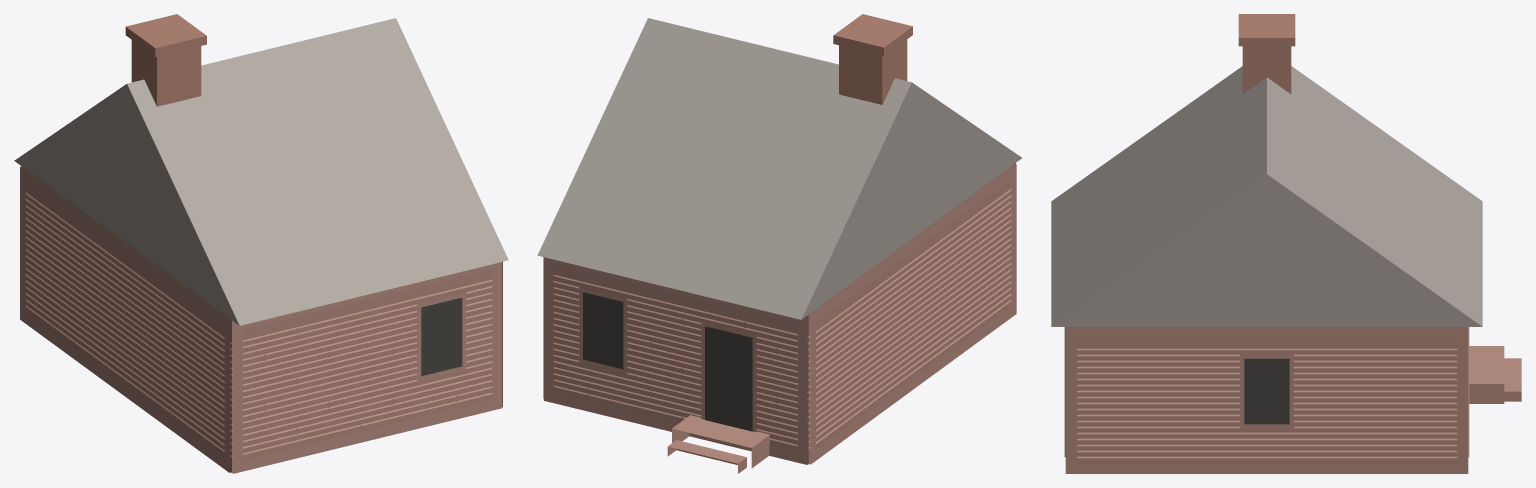
Rendered from recon_1835_south_d3_027__inferred_1835.glb.
The picture shows the model from 3 angles, left to right: view 1: azimuth 30°, elevation 25°; view 2: azimuth 150°, elevation 25°; view 3: azimuth 270°, elevation 25°; orthographic projection. The views are drawn at different scales.
Parts seen in each view (by area): view 1: recon_1835_south_d3_027__inferred_1835; view 2: recon_1835_south_d3_027__inferred_1835; view 3: recon_1835_south_d3_027__inferred_1835.
Boxes of the visible parts, x1=… form: recon_1835_south_d3_027__inferred_1835: x1=14, y1=14, x2=508, y2=473; recon_1835_south_d3_027__inferred_1835: x1=537, y1=14, x2=1021, y2=473; recon_1835_south_d3_027__inferred_1835: x1=1051, y1=14, x2=1521, y2=473.
Bounding box in the file's own units: 5.2 × 6.47 × 8.11.
